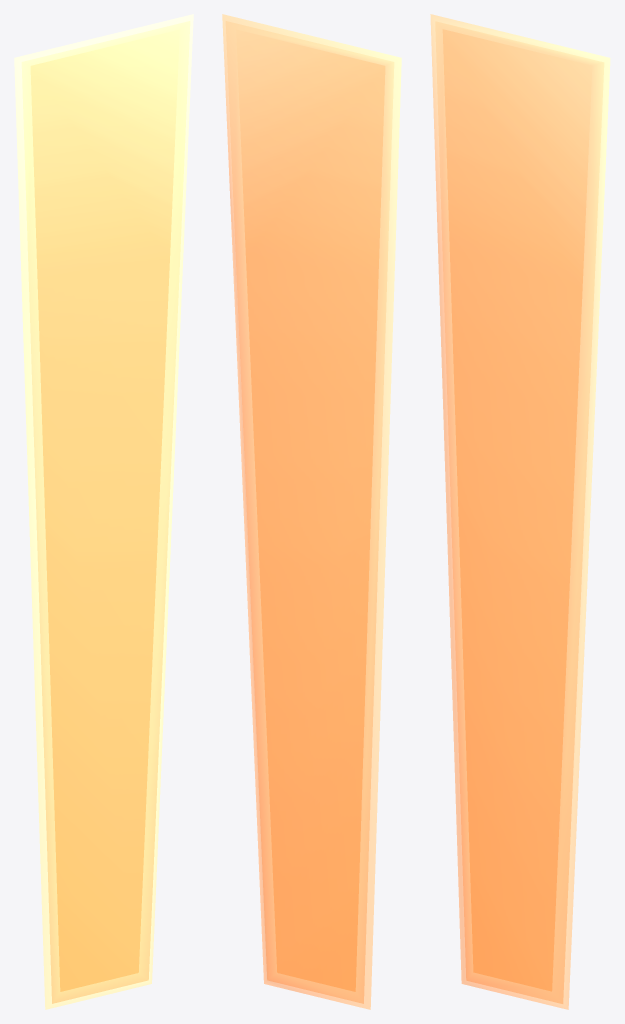
File: wood_blade (5).glb
3 views of the same model, side by side, from view 1: azimuth 30°, elevation 25°; view 2: azimuth 150°, elevation 25°; view 3: azimuth 330°, elevation 25° (orthographic).
Parts seen in each view (by area): view 1: wood_blade_steel.081; view 2: wood_blade_steel.081; view 3: wood_blade_steel.081.
Part boxes in pixels (box(x1,y1,x2,y2)): wood_blade_steel.081: box(14, 14, 193, 1009); wood_blade_steel.081: box(222, 14, 401, 1009); wood_blade_steel.081: box(430, 14, 610, 1009).
Size of the model in its own units: 2.19 by 11.21 by 0.0882.
Materials: 1 (1 with a texture image).
